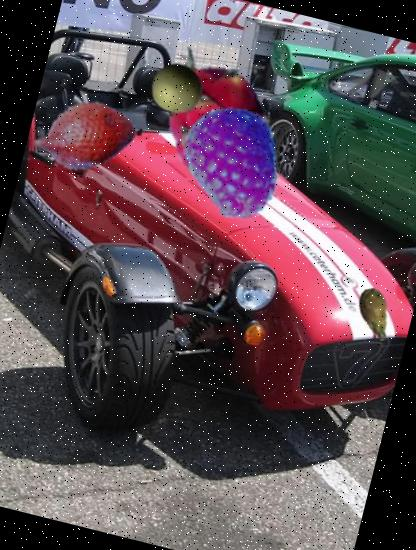Apple: (142, 55, 210, 123)
Cactus: (343, 283, 407, 347)
Pitahaya: (127, 28, 305, 206)
Raspberry: (162, 95, 300, 233)
Salak: (22, 74, 148, 200)
